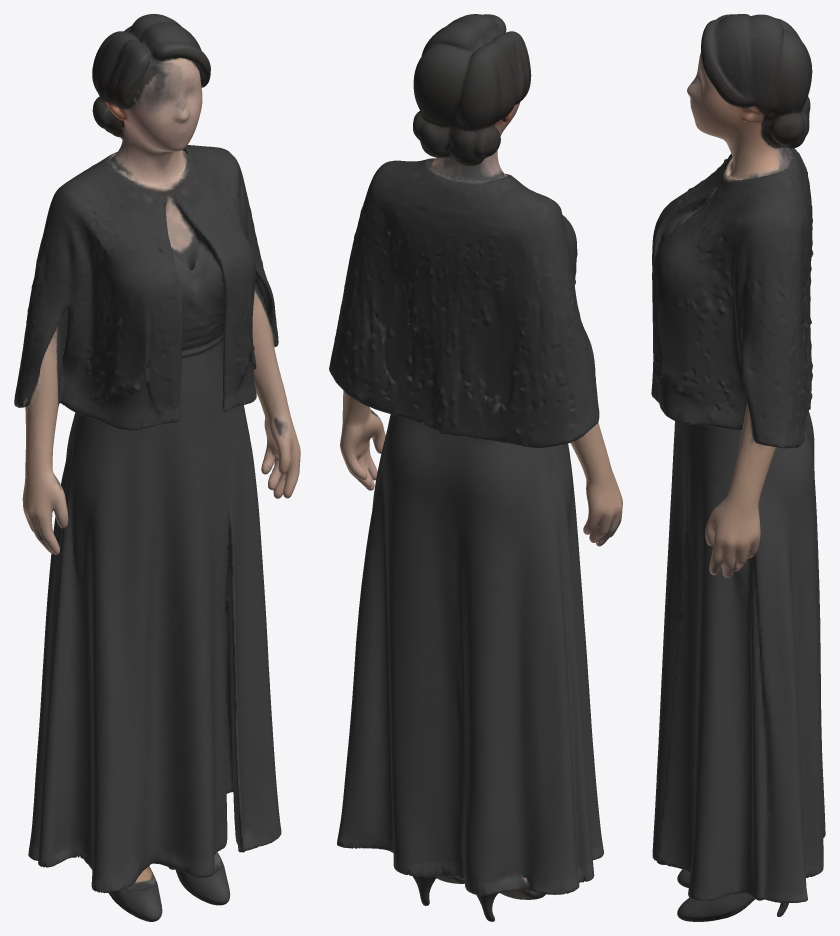
File: woman-01.glb
3 renders of one model, left to right at view 1: azimuth 30°, elevation 25°; view 2: azimuth 150°, elevation 25°; view 3: azimuth 270°, elevation 25°, orthographic. The views are drawn at different scales.
Visible parts, largest first — view 1: tripo_node_2dc3248b-7cfb-42d6-abf3-11772b836960; view 2: tripo_node_2dc3248b-7cfb-42d6-abf3-11772b836960; view 3: tripo_node_2dc3248b-7cfb-42d6-abf3-11772b836960.
Boxes of the visible parts, x1,y1,x2,y2 form: tripo_node_2dc3248b-7cfb-42d6-abf3-11772b836960: (14, 14, 300, 921); tripo_node_2dc3248b-7cfb-42d6-abf3-11772b836960: (329, 14, 622, 921); tripo_node_2dc3248b-7cfb-42d6-abf3-11772b836960: (651, 14, 825, 921).
Size of the model in its own units: 0.3264 by 1 by 0.1781.
Materials: 1 (1 with a texture image).
